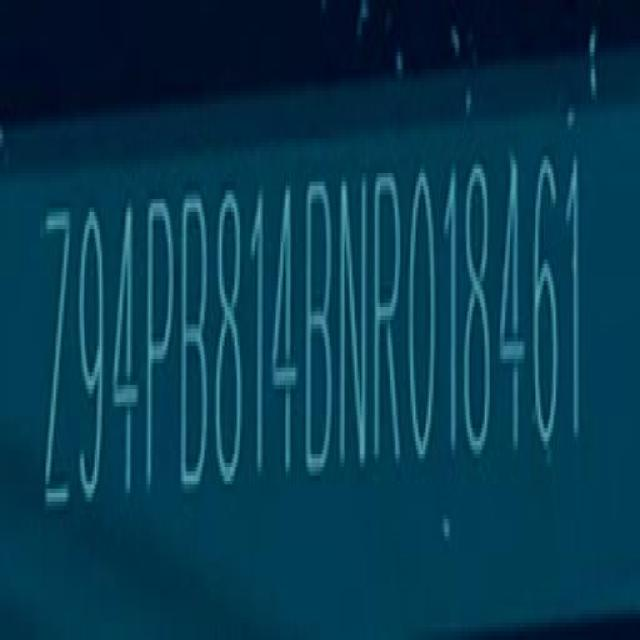0: (408, 166, 438, 464)
1: (566, 146, 586, 446), (248, 185, 266, 487), (441, 163, 456, 458)
4: (497, 156, 528, 457), (273, 181, 302, 477), (112, 202, 140, 506)
6: (532, 154, 560, 452)
8: (213, 186, 243, 485), (462, 158, 490, 458)
9: (78, 211, 109, 509)
B: (306, 175, 337, 472), (182, 193, 212, 494)
N: (341, 172, 371, 469)
P: (142, 194, 175, 501)
R: (373, 165, 407, 468)
Z: (40, 207, 72, 519)
